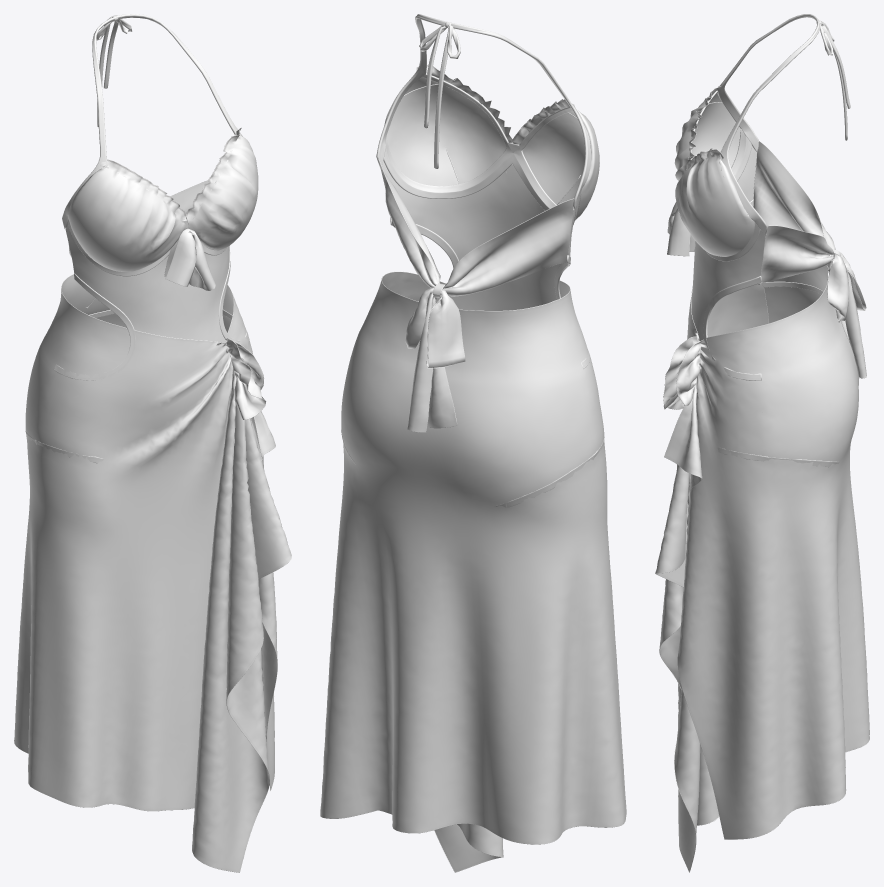
The model's file is white_swimsuit_dress.glb.
3 views of the same model, side by side, from view 1: azimuth 30°, elevation 25°; view 2: azimuth 150°, elevation 25°; view 3: azimuth 270°, elevation 25° (orthographic). The views are drawn at different scales.
Visible parts, largest first — view 1: Object_5, Object_6, Object_2, Object_8, Object_7; view 2: Object_5, Object_8, Object_7, Object_2, Object_6, Object_3; view 3: Object_5, Object_6, Object_8, Object_7, Object_2, Object_3, Object_4.
Boxes of the visible parts, x1=… form: Object_5: x1=14, y1=274, x2=291, y2=872; Object_6: x1=68, y1=15, x2=258, y2=290; Object_2: x1=36, y1=224, x2=232, y2=463; Object_8: x1=54, y1=180, x2=226, y2=380; Object_7: x1=62, y1=14, x2=246, y2=308; Object_5: x1=320, y1=271, x2=626, y2=872; Object_8: x1=378, y1=84, x2=590, y2=368; Object_7: x1=376, y1=14, x2=590, y2=368; Object_2: x1=341, y1=160, x2=604, y2=464; Object_6: x1=384, y1=22, x2=599, y2=432; Object_3: x1=390, y1=217, x2=594, y2=507; Object_5: x1=655, y1=265, x2=869, y2=872; Object_6: x1=667, y1=20, x2=866, y2=378; Object_8: x1=706, y1=136, x2=835, y2=284; Object_7: x1=689, y1=14, x2=866, y2=322; Object_2: x1=691, y1=146, x2=839, y2=467; Object_3: x1=703, y1=276, x2=768, y2=380; Object_4: x1=764, y1=287, x2=821, y2=323.
Bounding box in the file's own units: 385 × 1230 × 291.
1 material, 1 textured.
